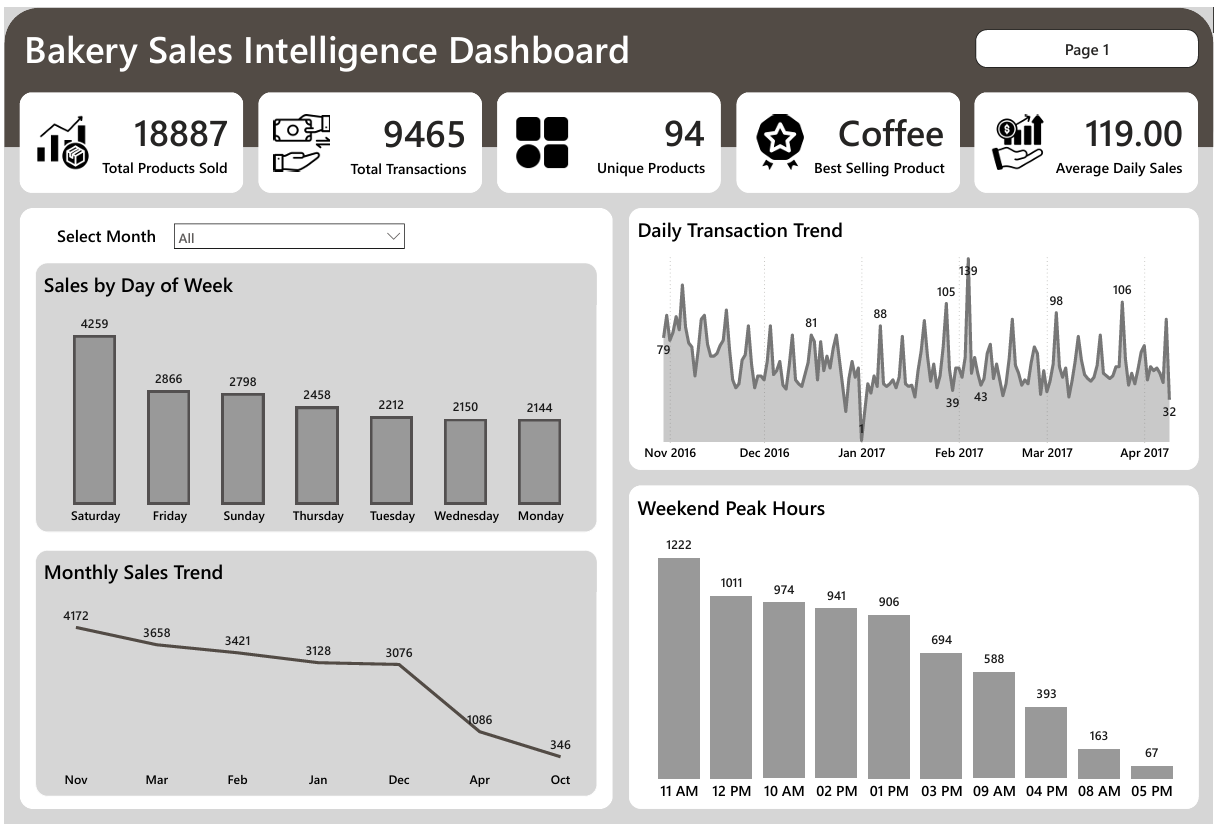

The page's visual inventory and layout, read from the dashboard file:
{"tool":"powerbi","page":{"name":"Page 2","canvas":[1570,1060],"ordinal":1},"visuals":[{"type":"textbox","box":[20,10,940,75],"z":0},{"type":"shape","box":[0,0,1570,180.6],"z":1000},{"type":"cardVisual","fields":{"Data":["bakery_sales.Total Products Sold"]},"box":[20,110,290,130],"z":2000},{"type":"cardVisual","fields":{"Data":["bakery_sales.Total Transactions"]},"box":[330,110,290,130],"z":3000},{"type":"cardVisual","fields":{"Data":["bakery_sales.Unique Products"]},"box":[640.3,110,290,130],"z":4000},{"type":"cardVisual","fields":{"Data":["bakery_sales.Average Daily Sales"]},"box":[1260,110,290,130],"z":5000},{"type":"cardVisual","fields":{"Data":["bakery_sales.Best Selling Product"]},"box":[950.7,110,290,130],"z":6000},{"type":"textbox","box":[19.4,14.9,800,76.1],"z":7000},{"type":"shape","box":[20,260,770,780],"z":8000},{"type":"columnChart","title":"Sales by Day of Week","fields":{"Category":["bakery_sales.Day_Name"],"Y":["bakery_sales.TotalSales"]},"box":[40,330.9,730,350],"z":9000},{"type":"lineStackedColumnComboChart","title":"Weekend Peak Hours","fields":{"Category":["bakery_sales.Hour Label"],"Y":["bakery_sales.TotalSales"]},"box":[810.9,620,740,420],"z":10000},{"type":"lineChart","title":"Monthly Sales Trend","fields":{"Y":["bakery_sales.TotalSales"],"Category":["bakery_sales.Month Name"]},"box":[40,703.6,730,320],"z":11000},{"type":"areaChart","title":"Daily Transaction Trend","fields":{"Y":["bakery_sales.Total Transactions"],"Category":["bakery_sales.Date.Variation.Date Hierarchy.Year","bakery_sales.Date.Variation.Date Hierarchy.Month","bakery_sales.Date.Variation.Date Hierarchy.Day"]},"box":[810.9,260,740,340],"z":12000},{"type":"pageNavigator","box":[1261.1,27.8,290,50],"z":13000},{"type":"slicer","fields":{"Values":["bakery_sales.Date.Variation.Date Hierarchy.Month"]},"box":[210,270,320,52],"z":14000},{"type":"textbox","box":[50,276,165,40],"z":15000}]}

Visuals, with their boxes in screenshot pixels (x1, y1, x2, y2), scaled from the page's 1570x1060 canvas onto the 1217x831 screenshot:
textbox: detection(16, 8, 744, 67)
shape: detection(0, 0, 1216, 142)
cardVisual - bakery_sales.Total Products Sold: detection(16, 86, 240, 188)
cardVisual - bakery_sales.Total Transactions: detection(256, 86, 481, 188)
cardVisual - bakery_sales.Unique Products: detection(496, 86, 721, 188)
cardVisual - bakery_sales.Average Daily Sales: detection(977, 86, 1201, 188)
cardVisual - bakery_sales.Best Selling Product: detection(737, 86, 962, 188)
textbox: detection(15, 12, 635, 71)
shape: detection(16, 204, 612, 815)
"Sales by Day of Week" columnChart: detection(31, 259, 597, 534)
"Weekend Peak Hours" lineStackedColumnComboChart: detection(629, 486, 1202, 815)
"Monthly Sales Trend" lineChart: detection(31, 552, 597, 802)
"Daily Transaction Trend" areaChart: detection(629, 204, 1202, 470)
pageNavigator: detection(978, 22, 1202, 61)
slicer - bakery_sales.Date.Variation.Date Hierarchy.Month: detection(163, 212, 411, 252)
textbox: detection(39, 216, 167, 248)
